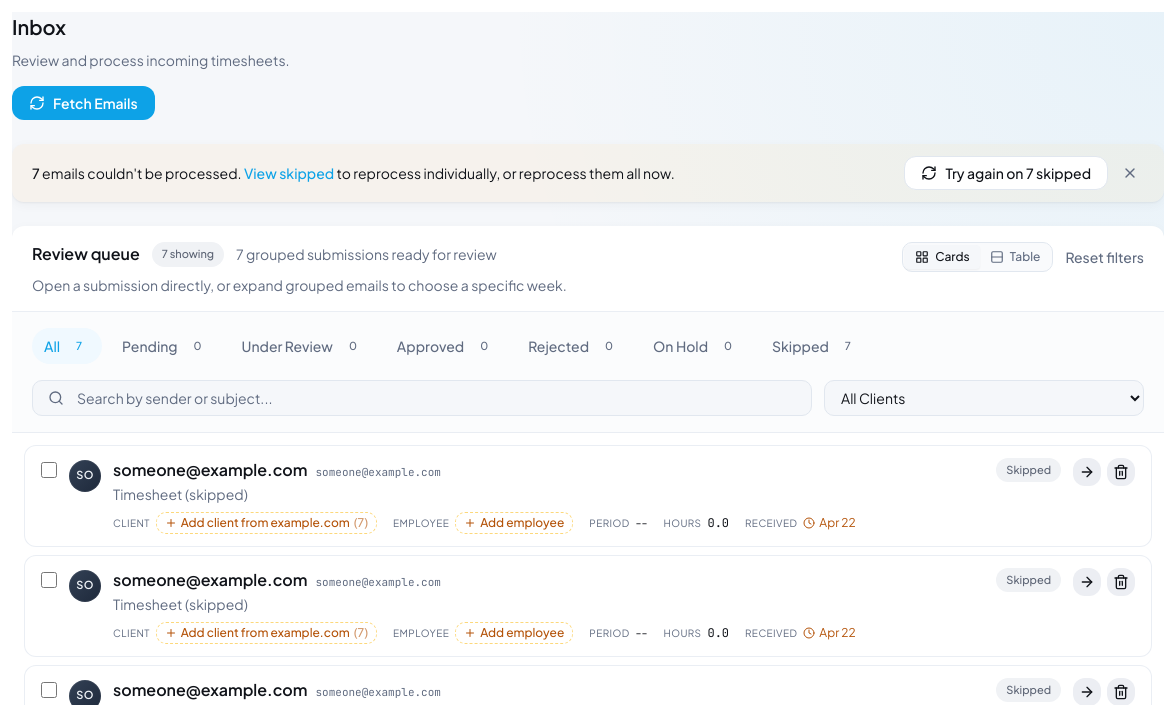
Test: InboxPage — reprocess-all-skipped controls › dismissing the banner hides it and persists the dismissed count per tenant
Click the button named "Dismiss skipped emails banner".
click(1130, 173)  # box 1116,159 -> 1144,187
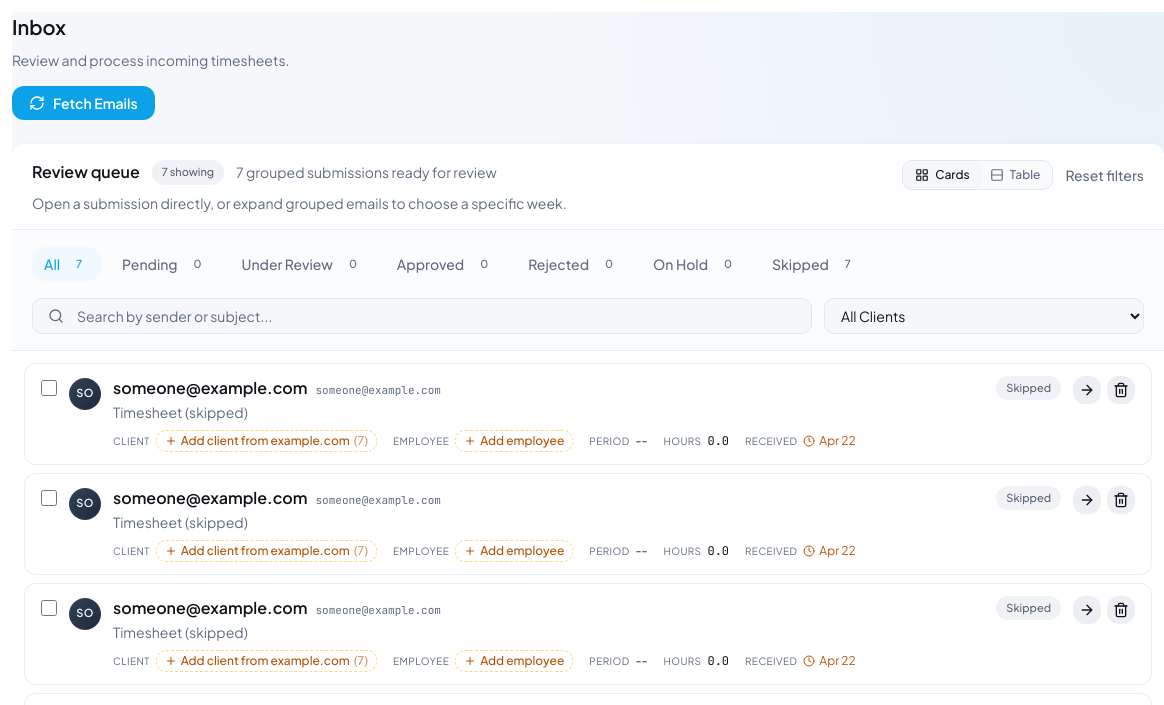
Now the message with test id "skipped-emails-banner" is gone
